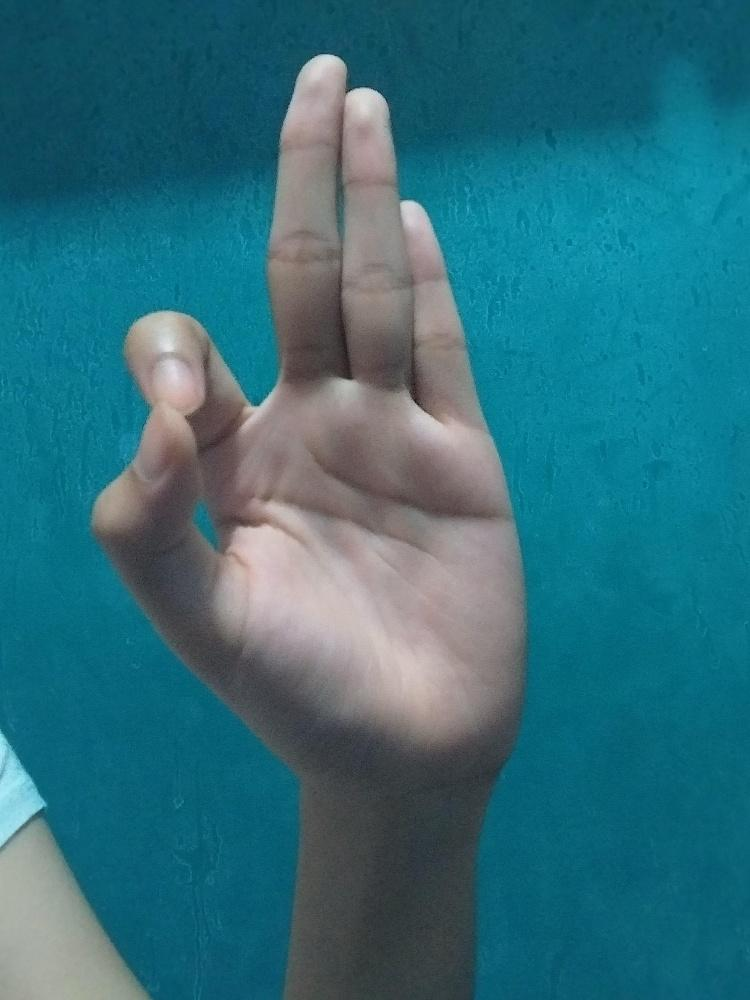f: (81, 50, 532, 764)
